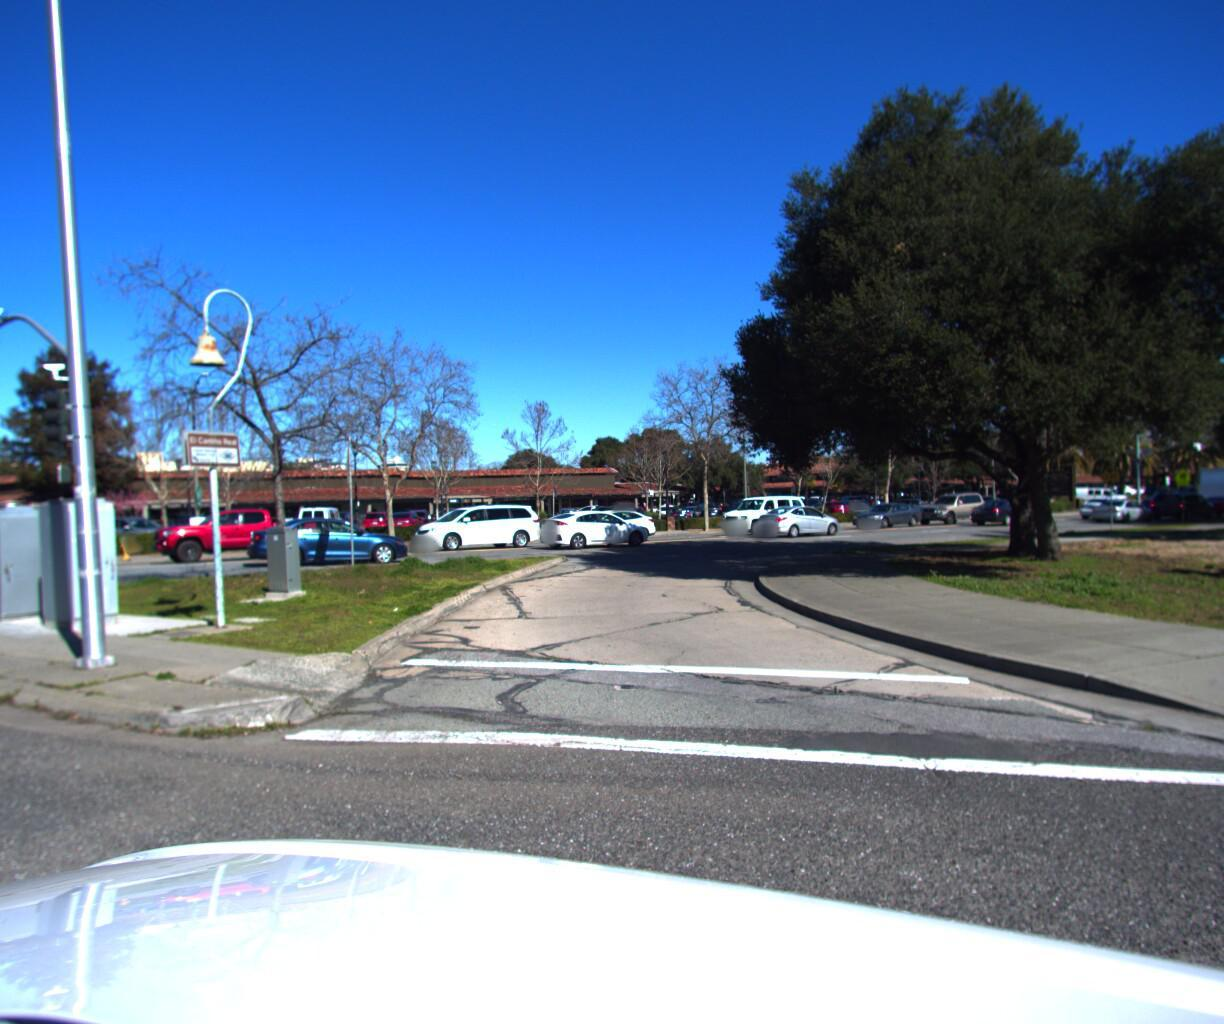car: (143, 501, 332, 568), (250, 511, 418, 571), (402, 498, 547, 552), (529, 502, 650, 549), (713, 481, 815, 533), (0, 505, 59, 586), (554, 503, 665, 542), (749, 500, 851, 538), (84, 510, 184, 545), (846, 494, 933, 530), (911, 488, 991, 526), (963, 494, 1044, 525), (1088, 494, 1164, 522), (1148, 492, 1218, 520), (1077, 493, 1145, 520), (889, 491, 948, 511), (1195, 488, 1224, 514)
truck: (1188, 457, 1224, 510)
